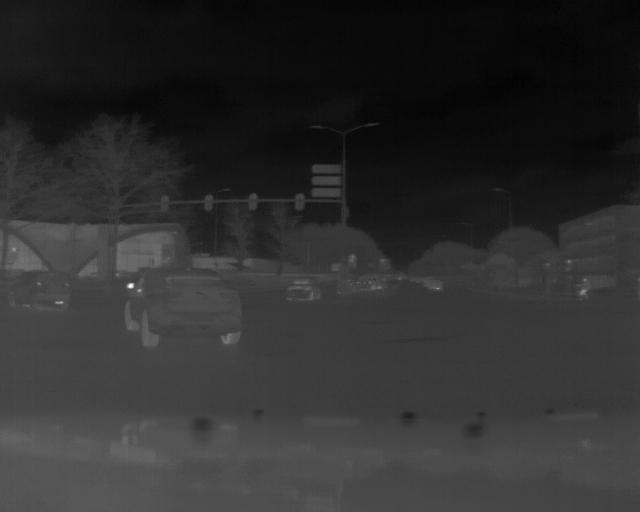car: (122, 268, 242, 350), (6, 270, 71, 314), (285, 277, 322, 305)
